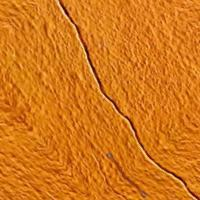crack: (57, 1, 199, 199)
